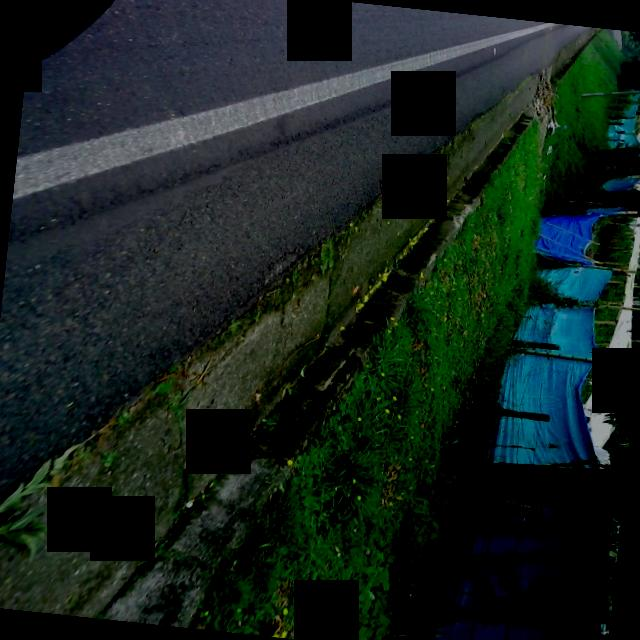DITCH: (0, 0, 617, 640), (0, 0, 602, 640)
